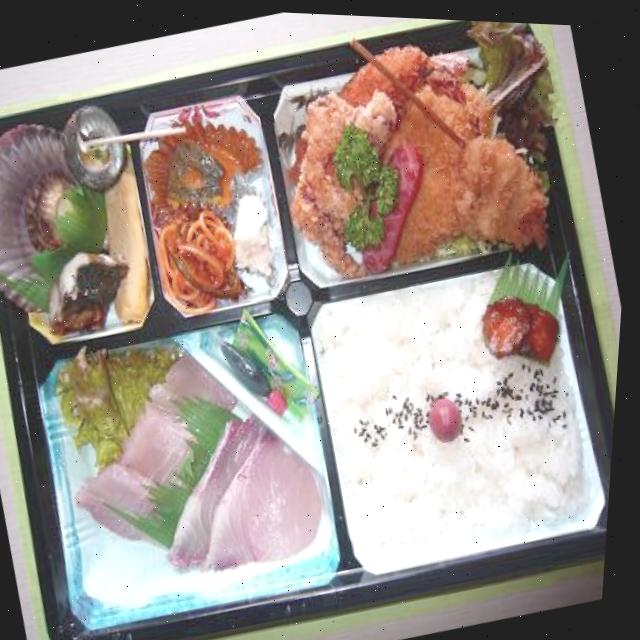炸货点心: (264, 20, 564, 292)
熟制海鲜: (264, 20, 564, 292)
